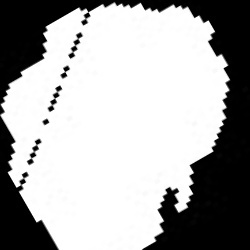spot: (1, 5, 231, 247)
